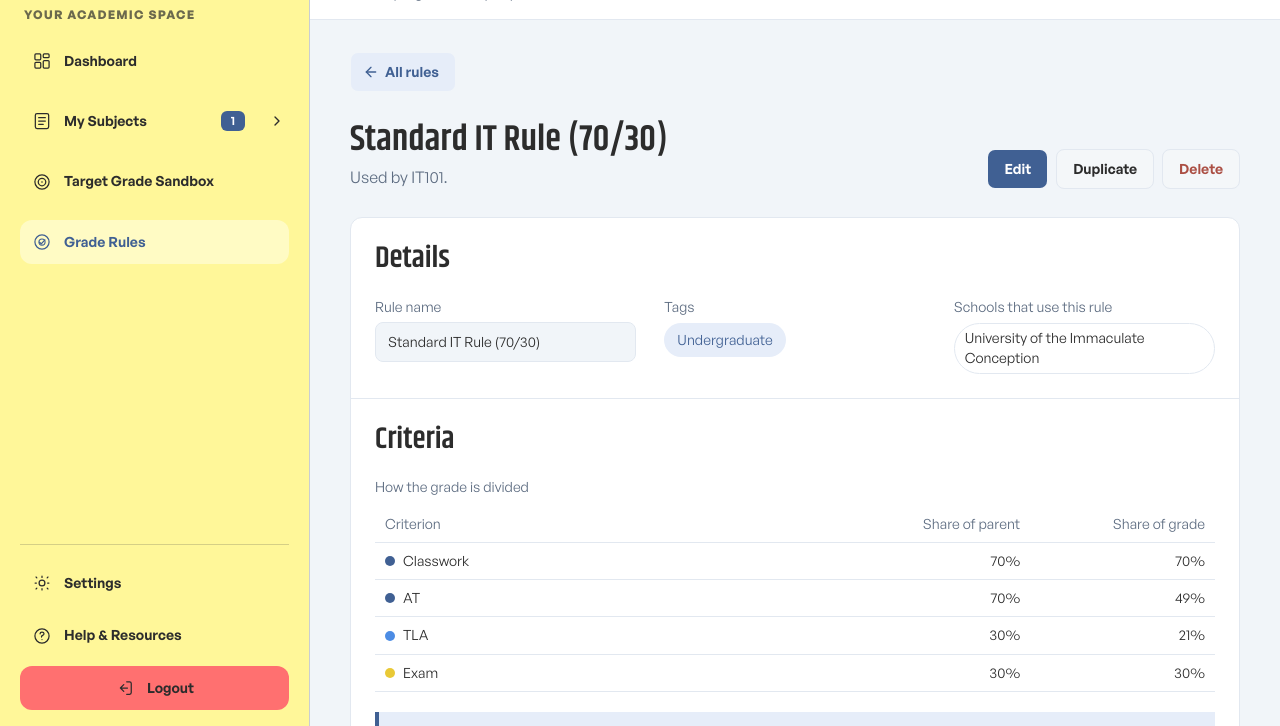
Test: unreadable stored data › Save saves nothing and says why
Click the button "Edit".
click(1018, 169)  # box [987,149,1048,189]
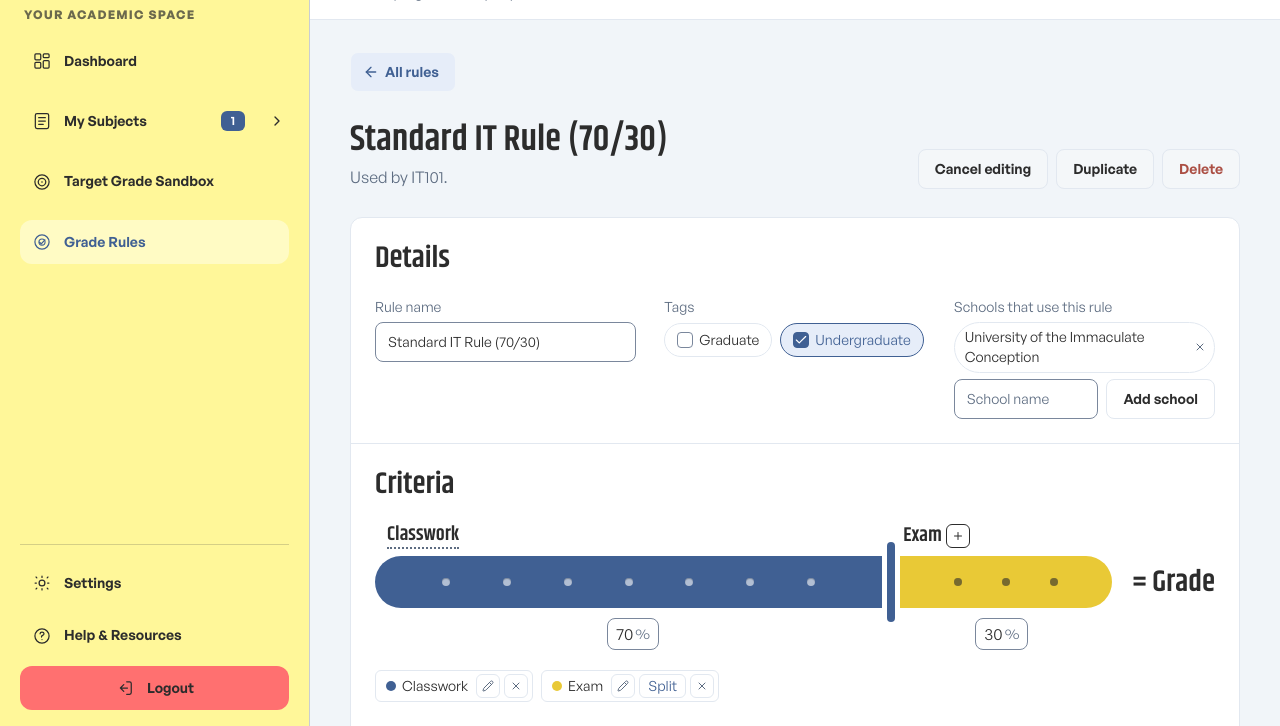
Replace the text in the field labelled "Rule name" with "Renamed rule" at (506, 342), box [375,322,636,362]
(page scrolled)
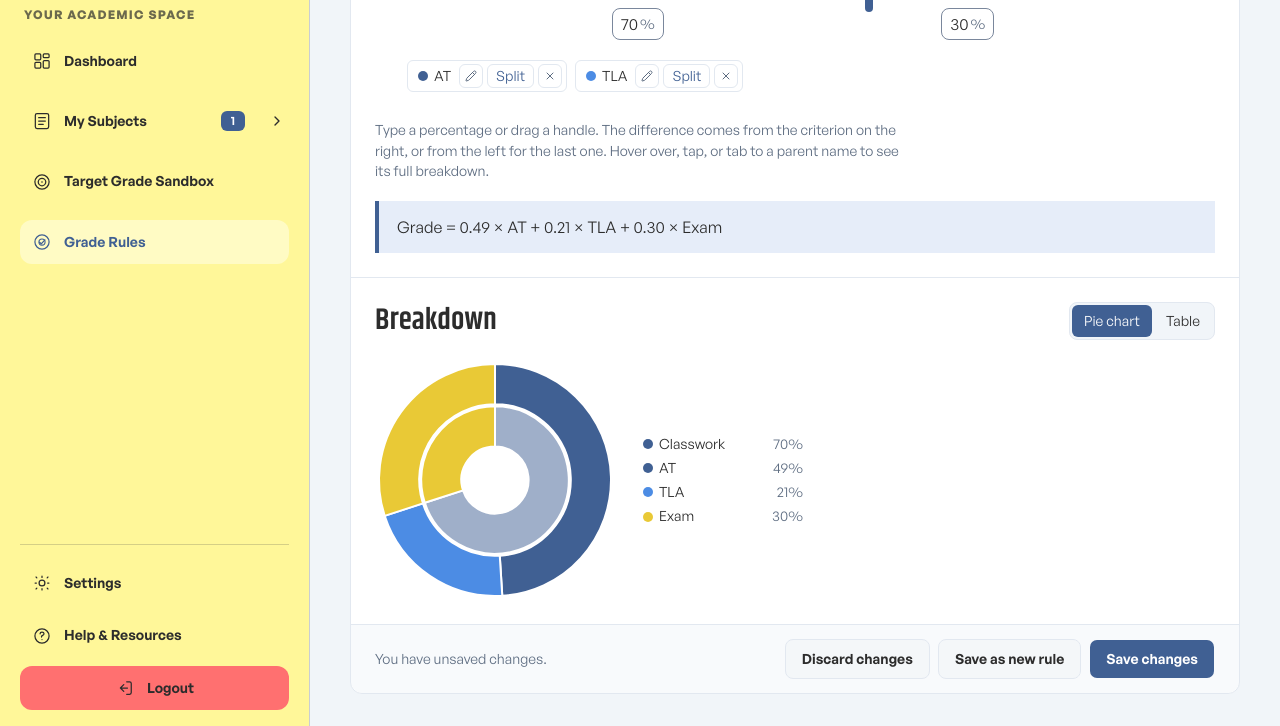
Click the button "Save changes".
click(1152, 659)  # box [1089,639,1215,679]
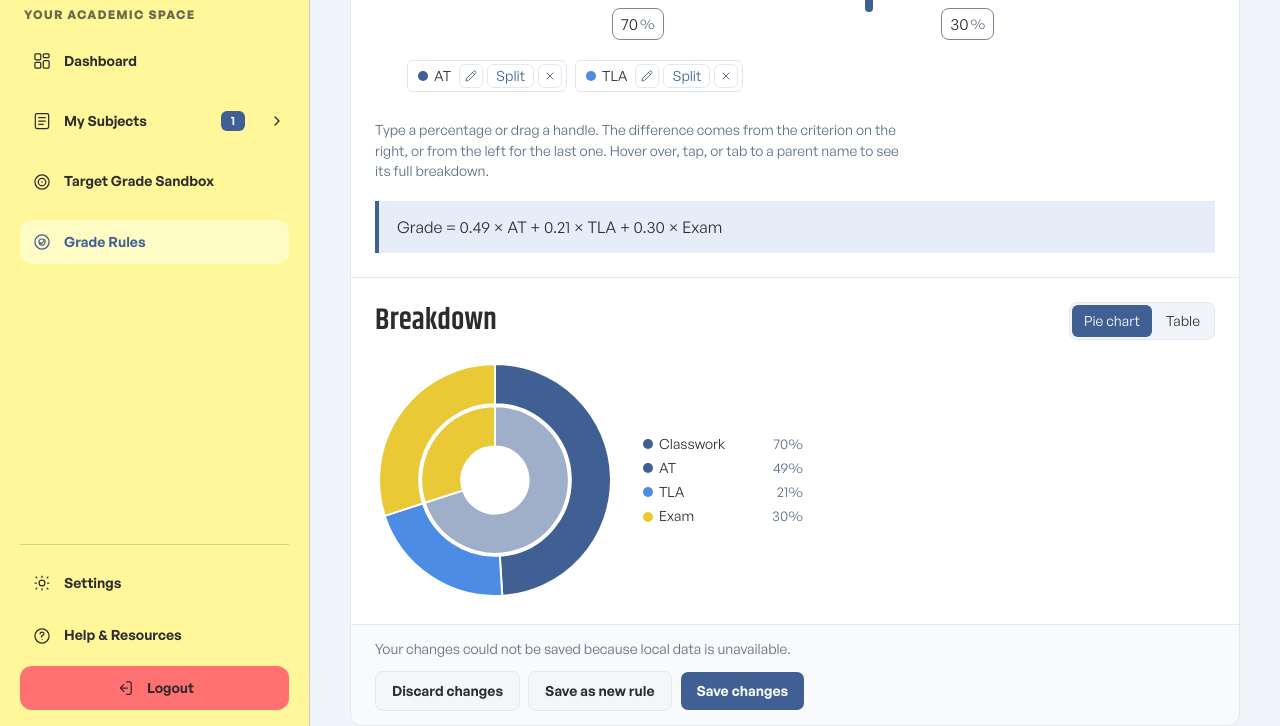
Expected: the text "Your changes could not be saved because local data is unavailable." is shown, [375,639,791,659]
